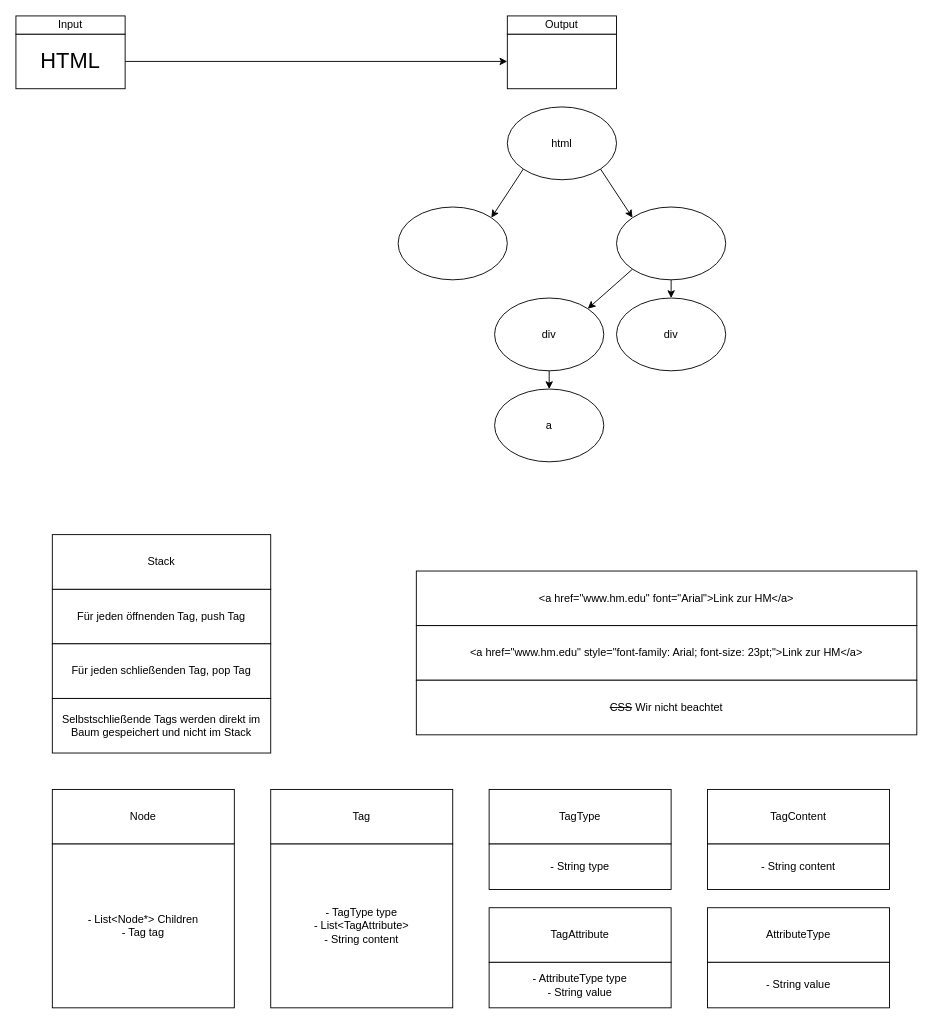
This 933x1024 diagram has some shape labels left out. Here are the shapes that lost their labels. From the top down, the box of each, then its label:
(506, 33, 617, 89): Tree
(397, 206, 507, 280): head
(616, 206, 726, 280): body
